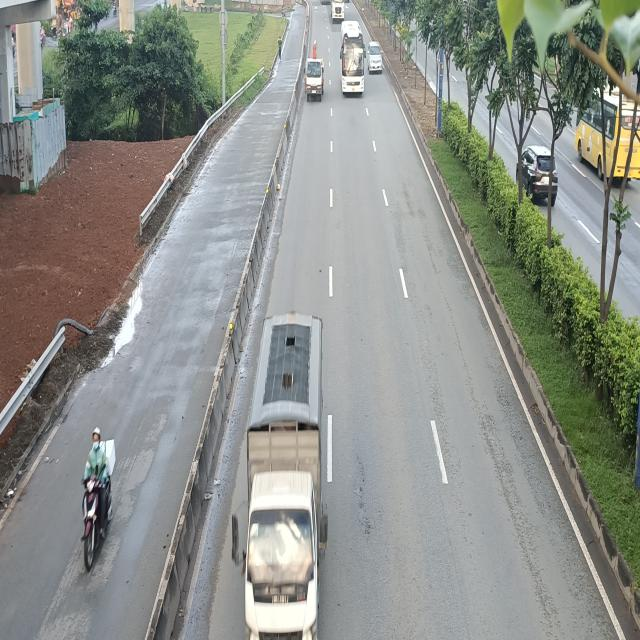car: (367, 42, 382, 74)
coach: (339, 21, 366, 97)
truck: (231, 312, 327, 640), (306, 54, 324, 98)
